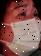with_mask: (1, 1, 41, 56)
